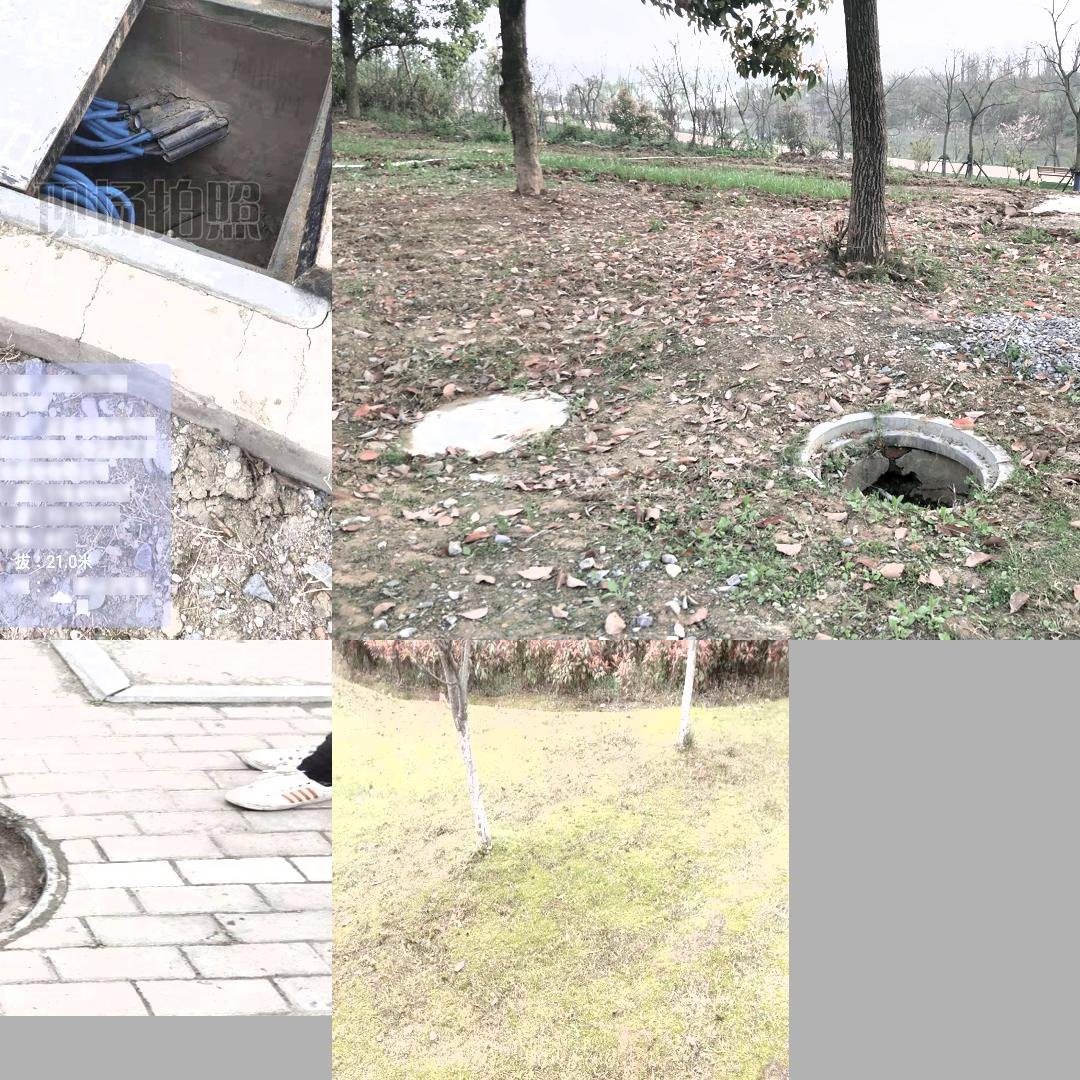lose: (0, 0, 332, 321), (797, 408, 1012, 513), (0, 752, 77, 973)
